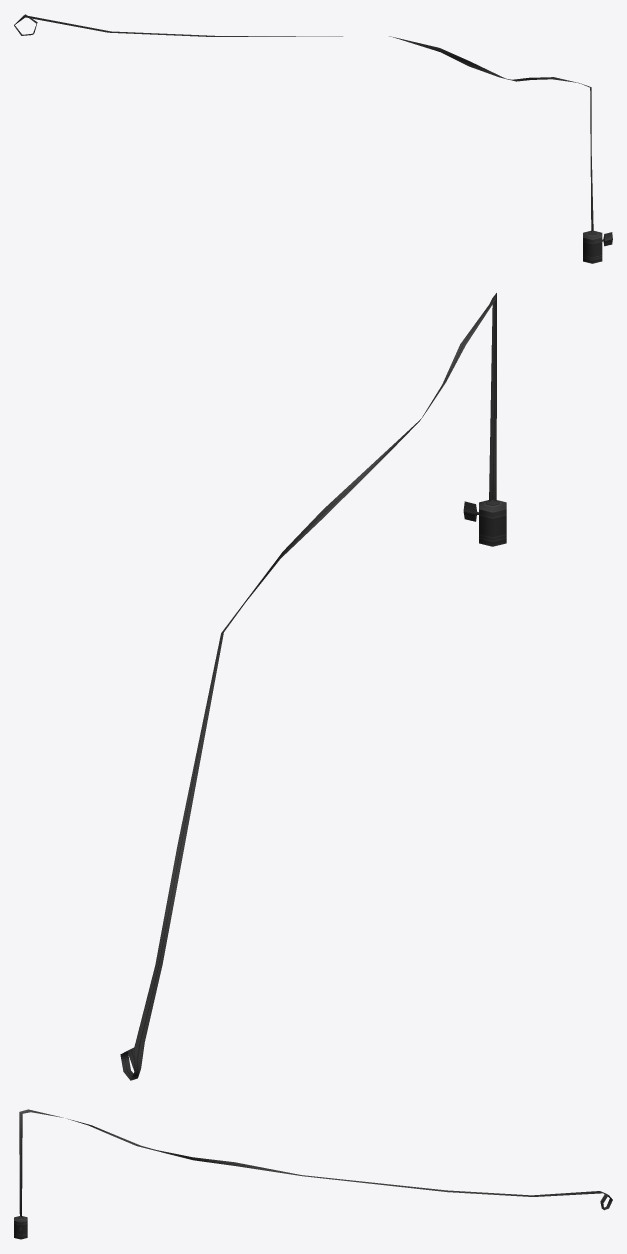
Rendered from jsf_4P_Light_s03_c.fbx.
The picture shows the model from 3 angles, top to bottom: view 1: azimuth 30°, elevation 25°; view 2: azimuth 150°, elevation 25°; view 3: azimuth 270°, elevation 25°; orthographic projection. The views are drawn at different scales.
Parts seen in each view (by area): view 1: jsf_4P_Light_s03_c; view 2: jsf_4P_Light_s03_c; view 3: jsf_4P_Light_s03_c.
Boxes of the visible parts, box(x1,y1,x2,y2) form: jsf_4P_Light_s03_c: box(14, 14, 612, 263); jsf_4P_Light_s03_c: box(120, 293, 506, 1080); jsf_4P_Light_s03_c: box(14, 1109, 612, 1239).
Bounding box in the file's own units: 31.67 × 34.6 × 124.
